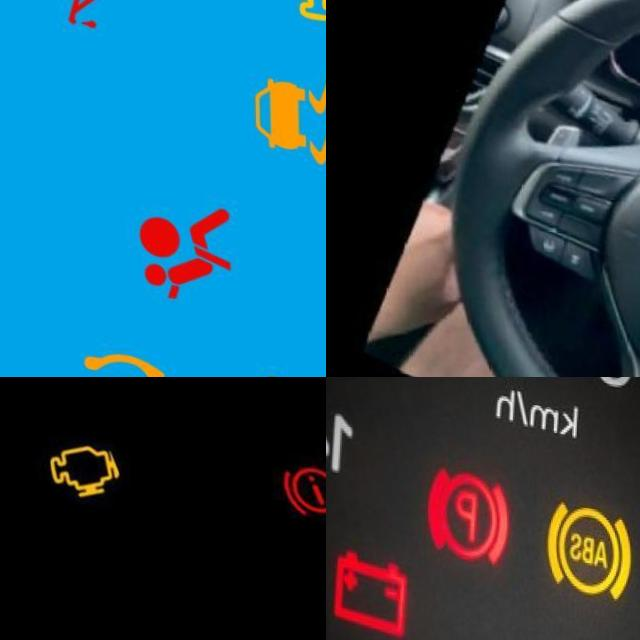High Engine Coolant Temperature: (190, 342, 312, 377)
